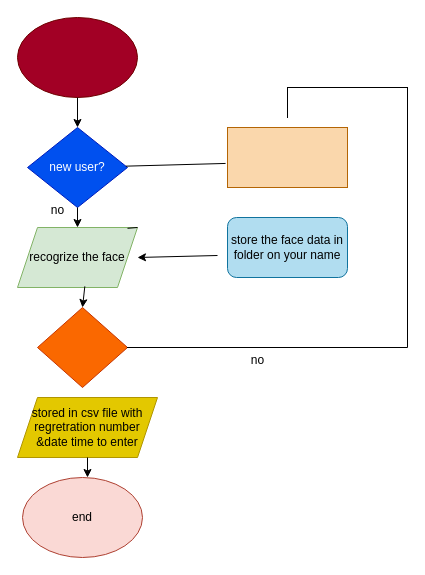
The diagram is 425 pixels wide and 575 high, and some of its shapes have lost their labels. Each missing label, with the centre of its shape:
"face recognized" goes at (82,347).
"give your photograph" goes at (287,157).
"start" goes at (77,57).
